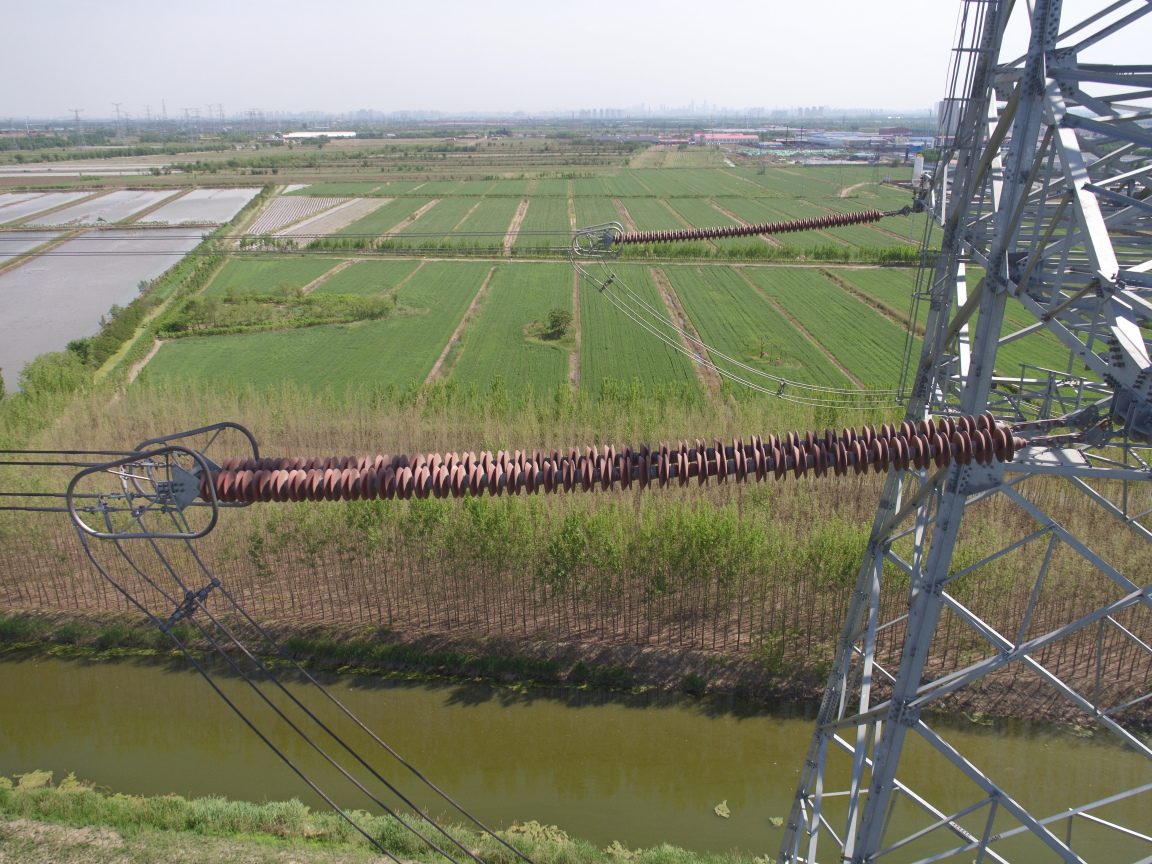insulator: (189, 406, 1053, 512), (609, 203, 894, 248)
